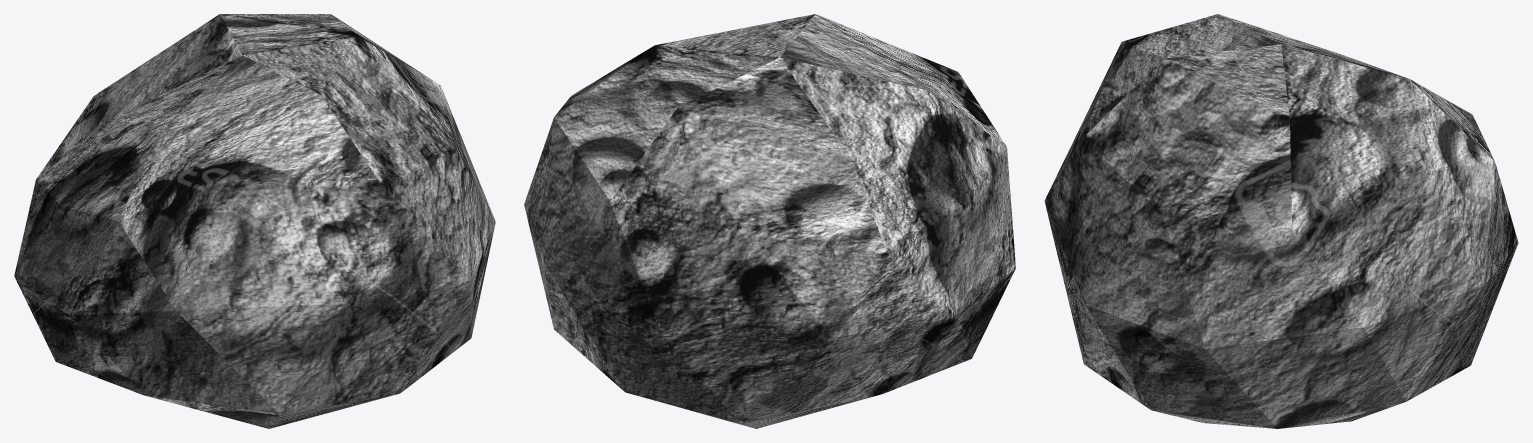
The model's file is M_Meteorite.fbx.
The picture shows the model from 3 angles, left to right: view 1: azimuth 30°, elevation 25°; view 2: azimuth 150°, elevation 25°; view 3: azimuth 270°, elevation 25°; orthographic projection. The views are drawn at different scales.
Visible parts, largest first — view 1: Meteorite; view 2: Meteorite; view 3: Meteorite.
Part boxes in pixels (box(x1,y1,x2,y2)): Meteorite: box(14, 14, 495, 428); Meteorite: box(524, 14, 1015, 428); Meteorite: box(1044, 14, 1518, 428).
Bounding box in the file's own units: 120 × 90.5 × 115.
